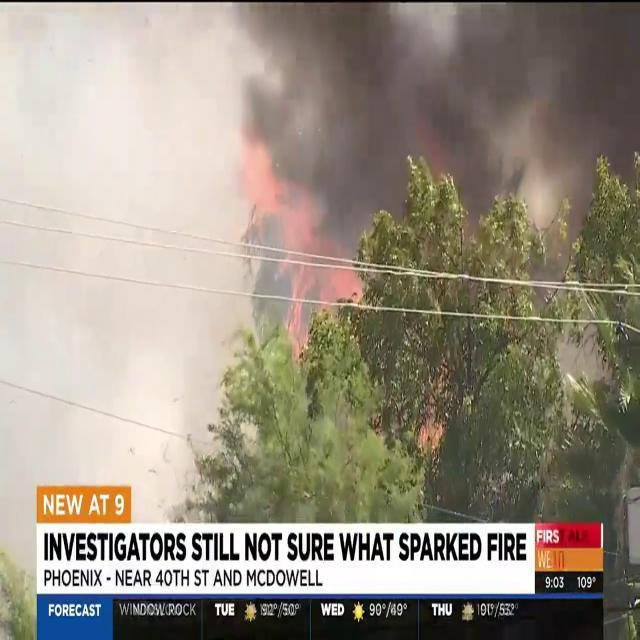Smoke: (214, 2, 638, 238)
